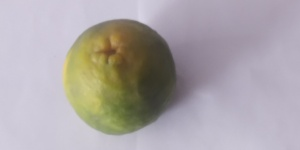BAD: (62, 19, 177, 136)
